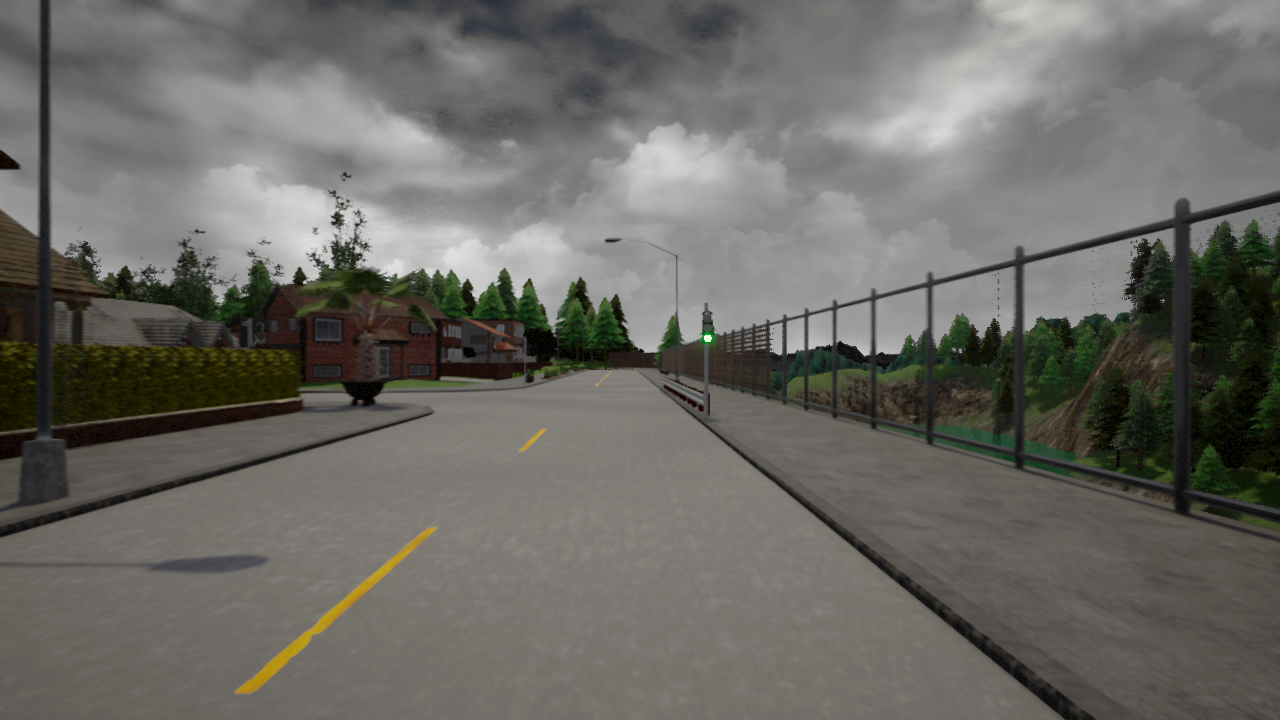green: (700, 308, 714, 342)
